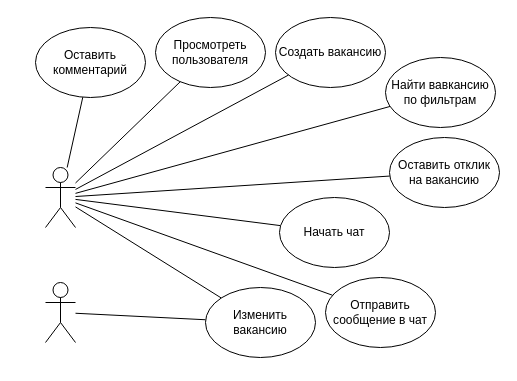
This 517x381 diagram has some shape labels left out. The centre of each missing label's shape, as x and y in pixels:
Администратор: pixel 60 312
Пользователь: pixel 60 197
